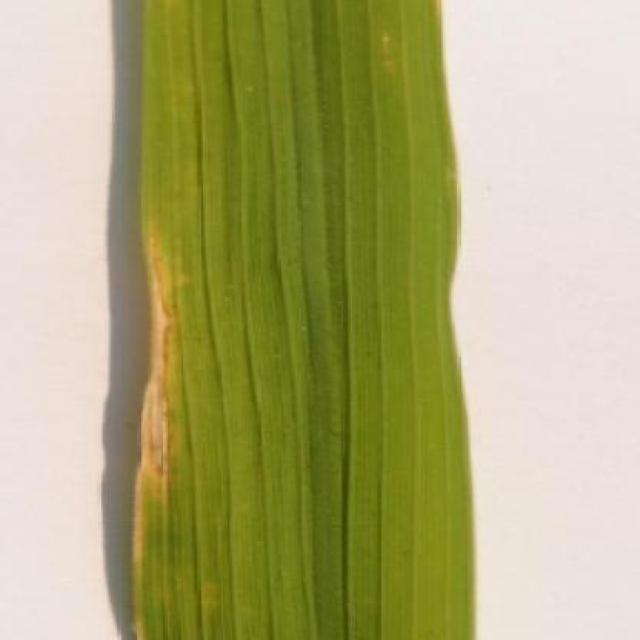Brown_Spot: (127, 0, 484, 640)
